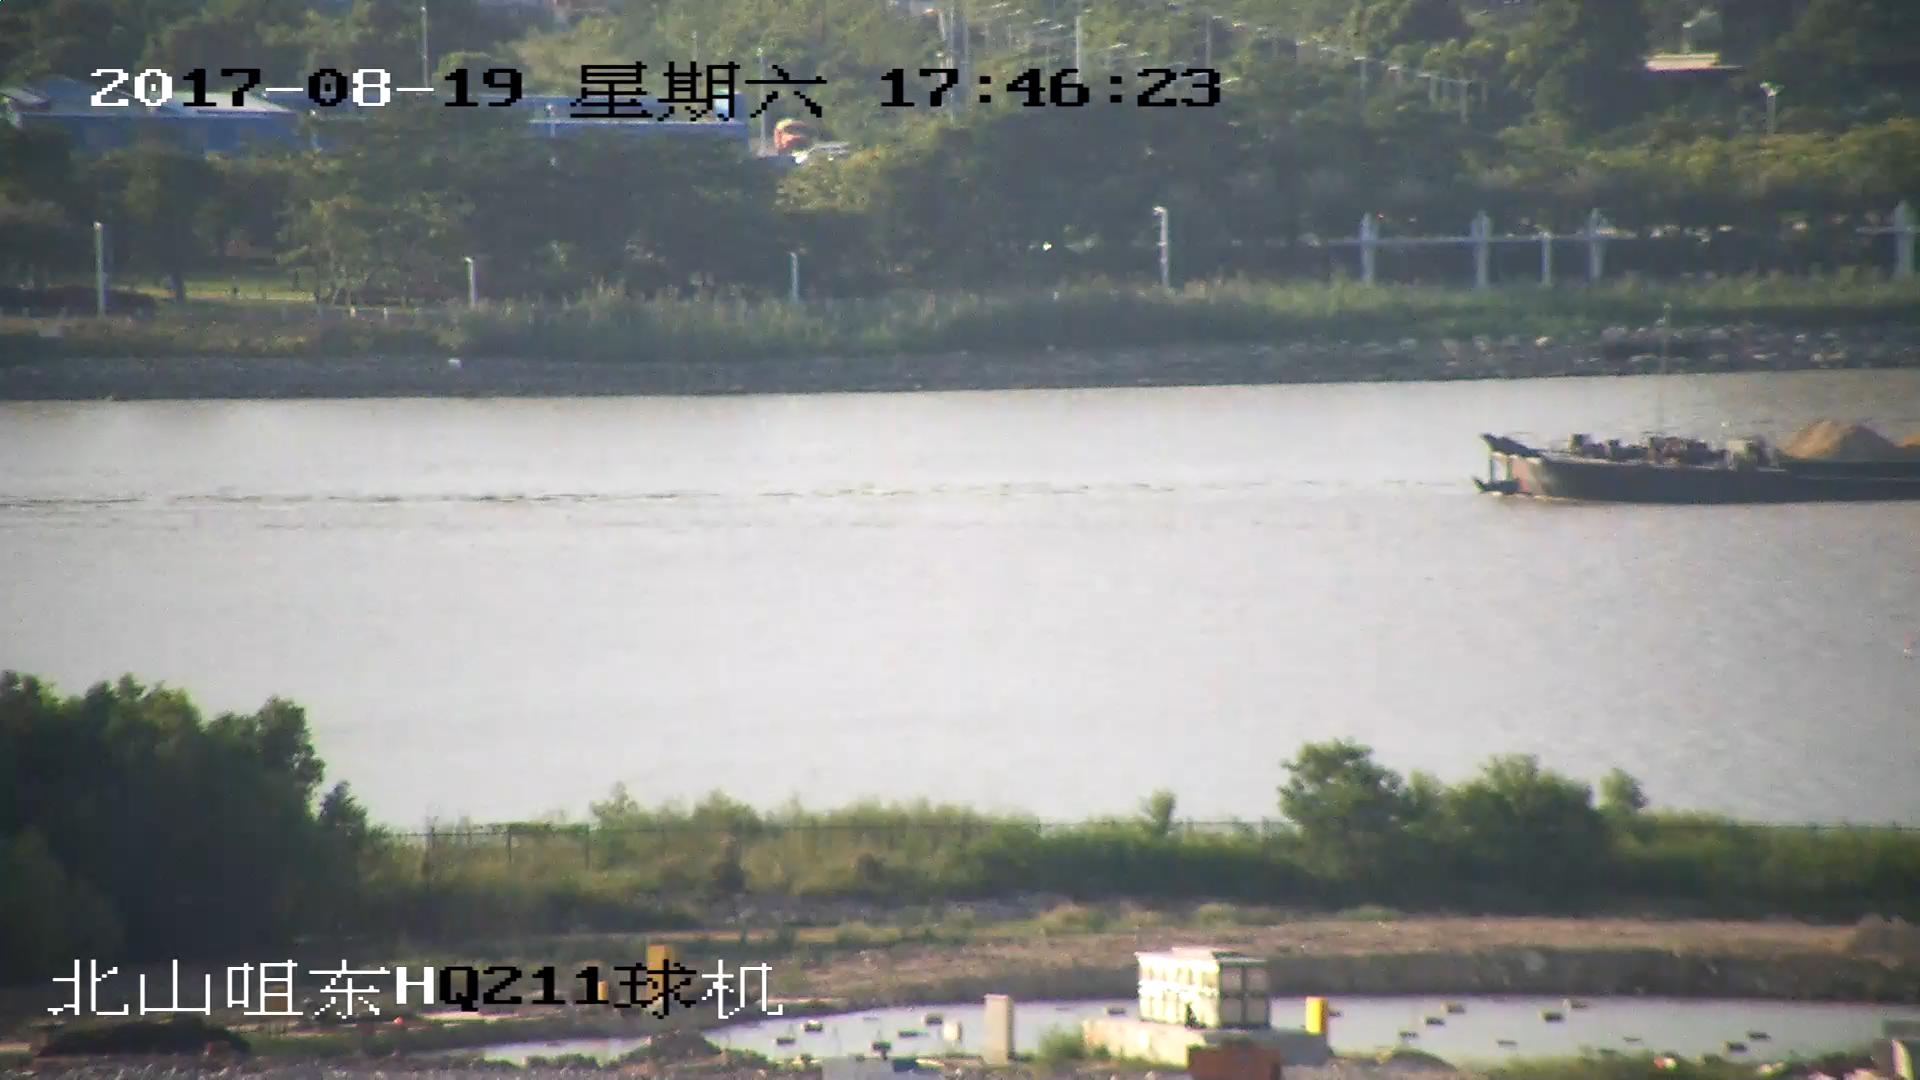ore carrier: (1470, 416, 1920, 507)
